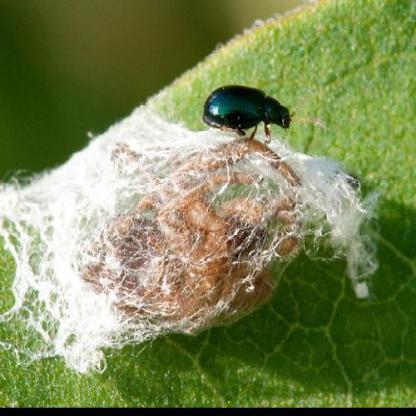beetle: (202, 83, 298, 160)
